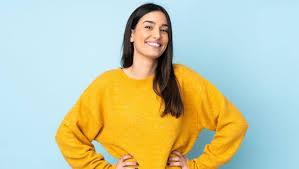Persons: (121, 1, 180, 72)
